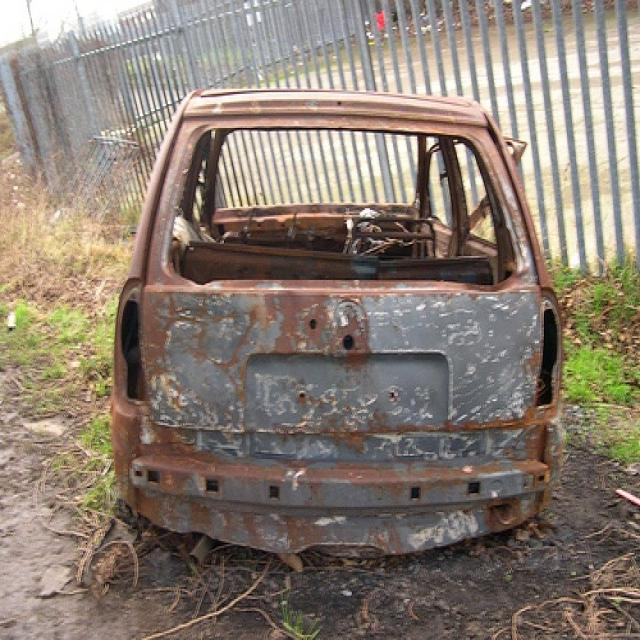car: (109, 84, 566, 565)
